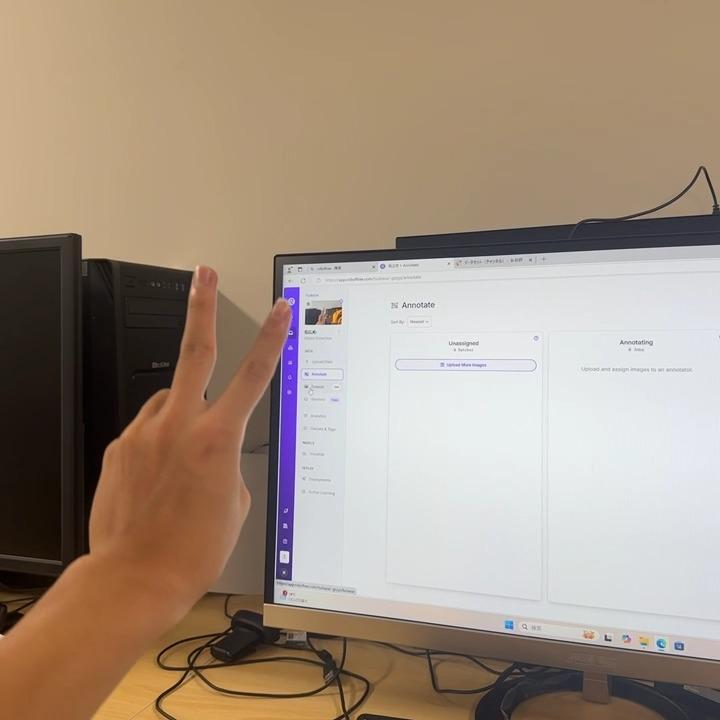without_gloves: (50, 224, 346, 649)
